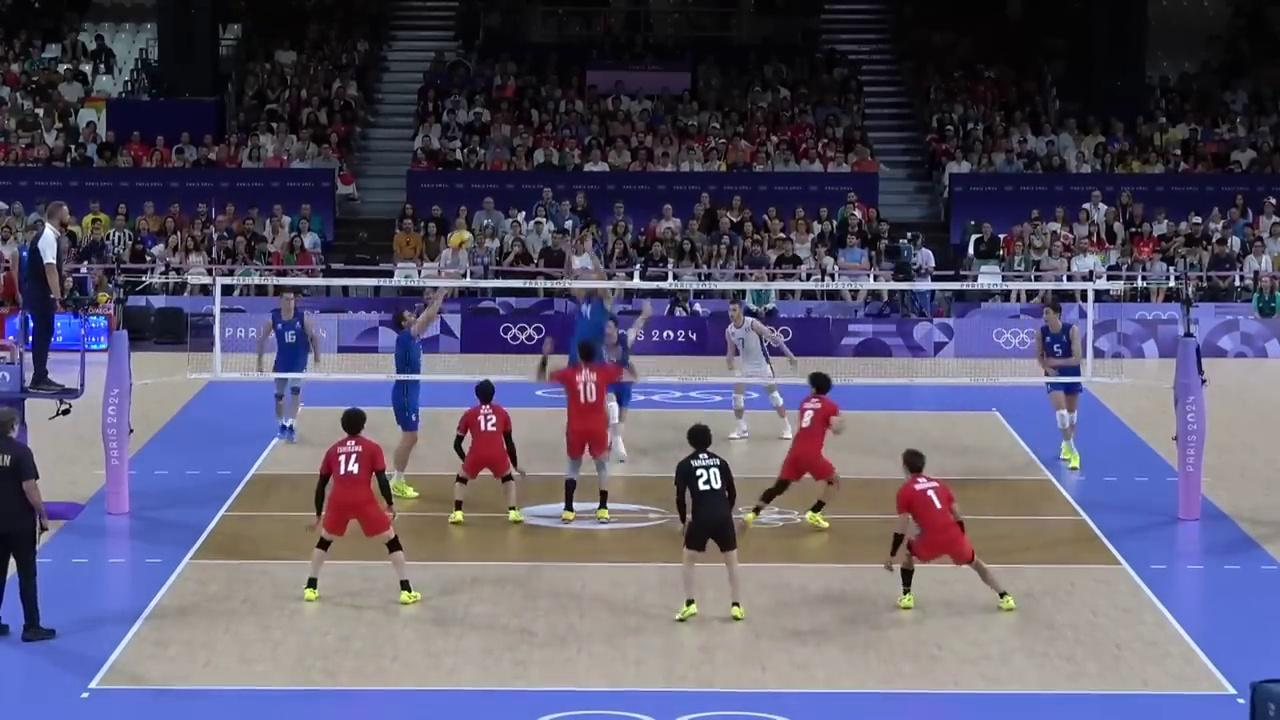ball: (448, 229, 472, 251)
